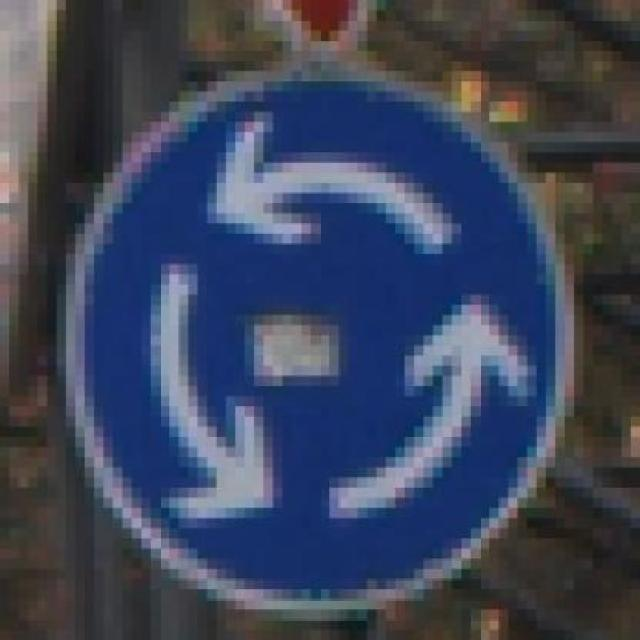Round-About: (29, 40, 602, 620)
